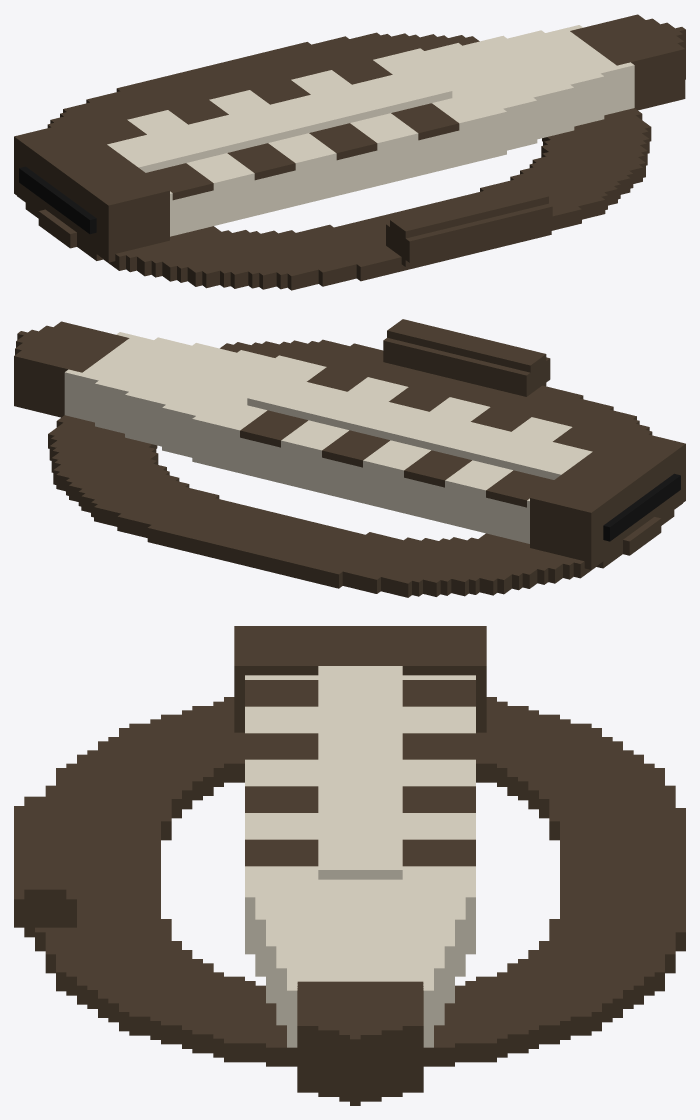
Rendered from bootsheath_birchbark.glb.
3 renders of one model, top to bottom at view 1: azimuth 30°, elevation 25°; view 2: azimuth 150°, elevation 25°; view 3: azimuth 270°, elevation 25°, orthographic. The views are drawn at different scales.
Visible parts, largest first — view 1: bootsheath_birchbark:compound; view 2: bootsheath_birchbark:compound; view 3: bootsheath_birchbark:compound.
Boxes of the visible parts, x1,y1,x2,y2 form: bootsheath_birchbark:compound: (14, 14, 685, 290); bootsheath_birchbark:compound: (14, 319, 685, 597); bootsheath_birchbark:compound: (14, 626, 685, 1105).
Bounding box in the file's own units: 0.184 × 0.018 × 0.128.
